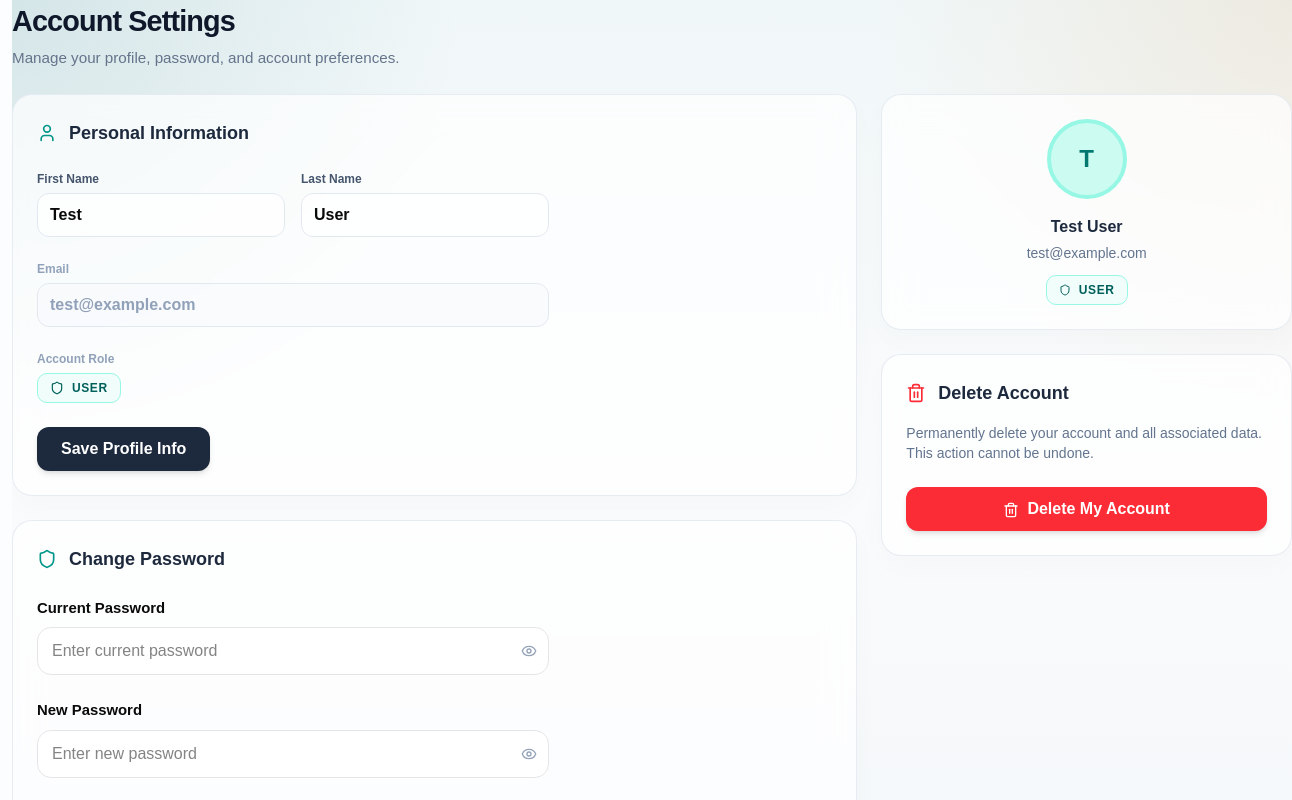
Test: DashboardSettings › shows profile validation errors when fields are empty
The image size is (1292, 800).
Clear the field labelled "First Name" at (161, 215), box x1=37 y1=193 x2=285 y2=237
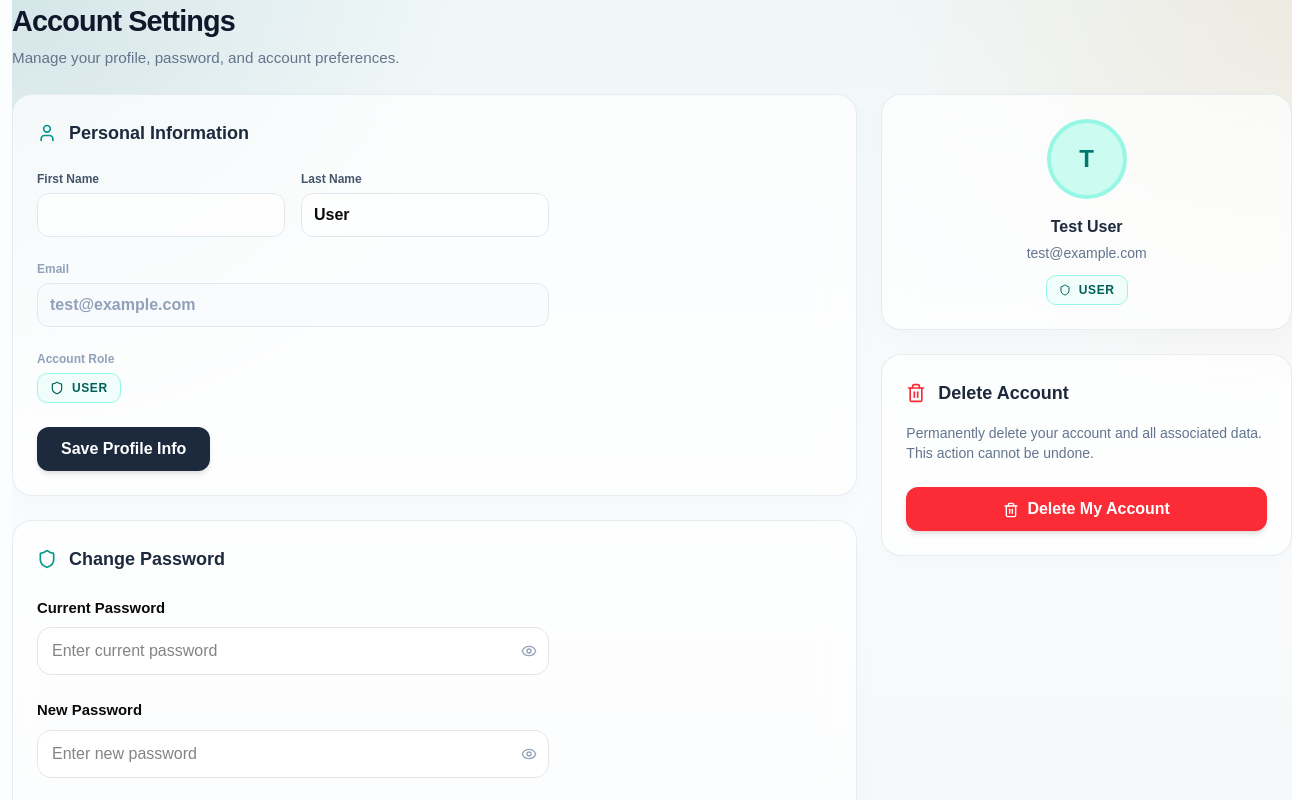
Click the button with test id "profile-submit" at (124, 449), box x1=37 y1=427 x2=210 y2=471
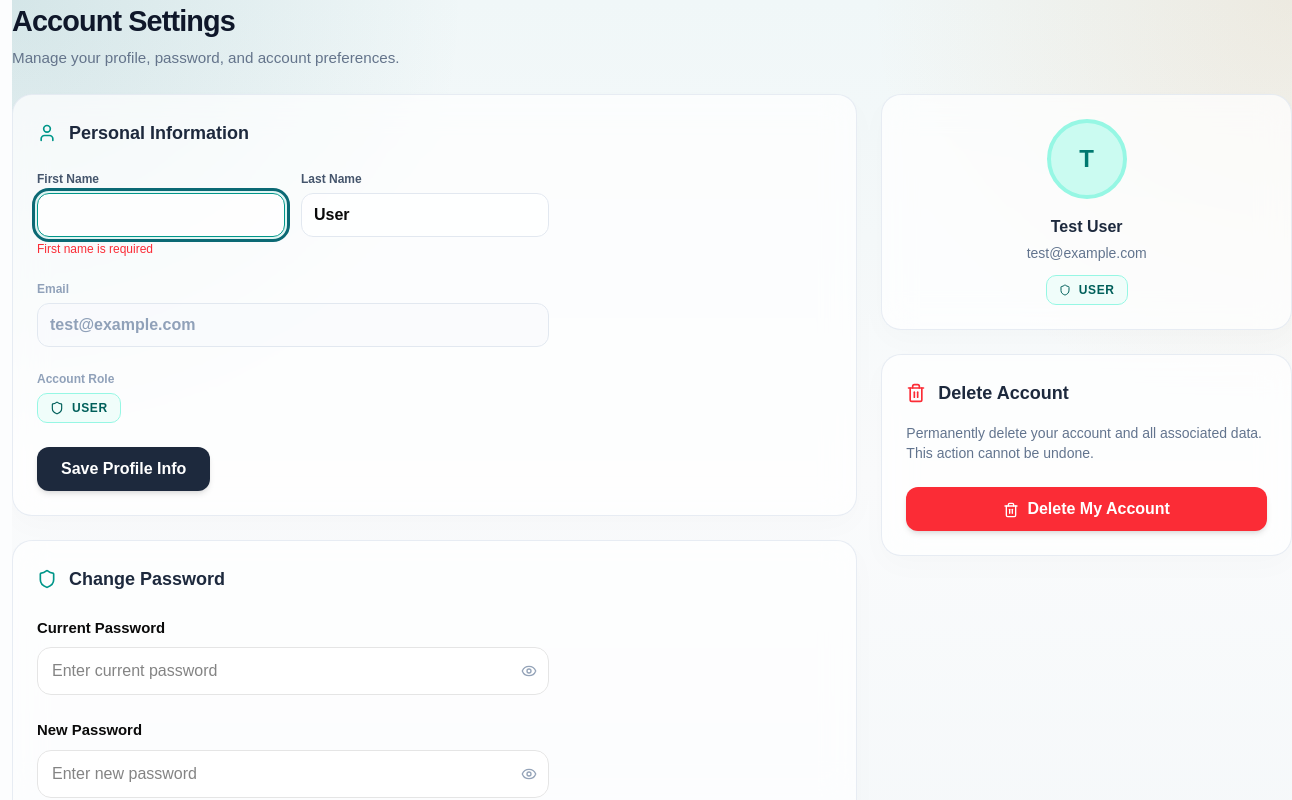
Now the text with test id "profile-error" shows "required", box x1=37 y1=242 x2=153 y2=256
